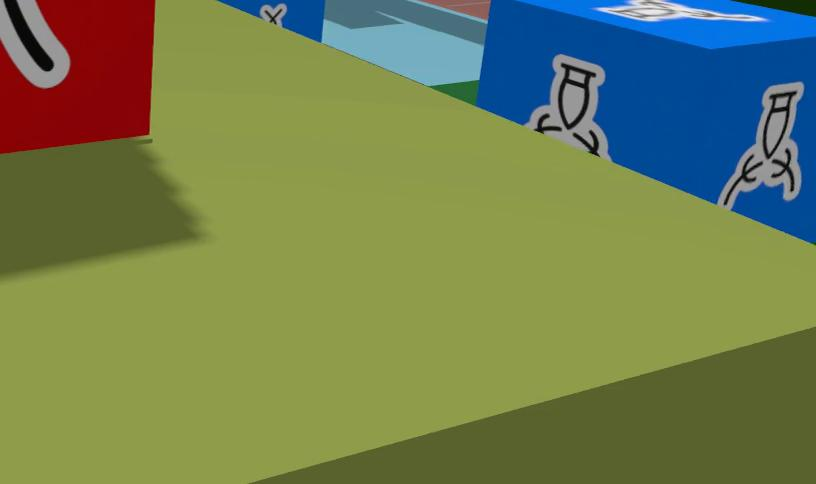KFS_FAKE: (0, 0, 155, 154)
KFS_REAL: (476, 0, 815, 241), (718, 82, 803, 208), (527, 55, 605, 156), (215, 0, 325, 40), (596, 0, 765, 20)
